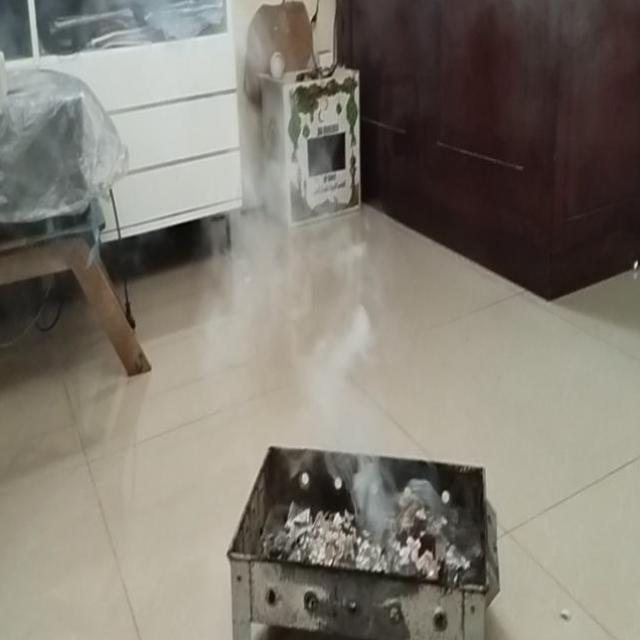fire: (196, 101, 299, 347), (316, 364, 398, 528)
